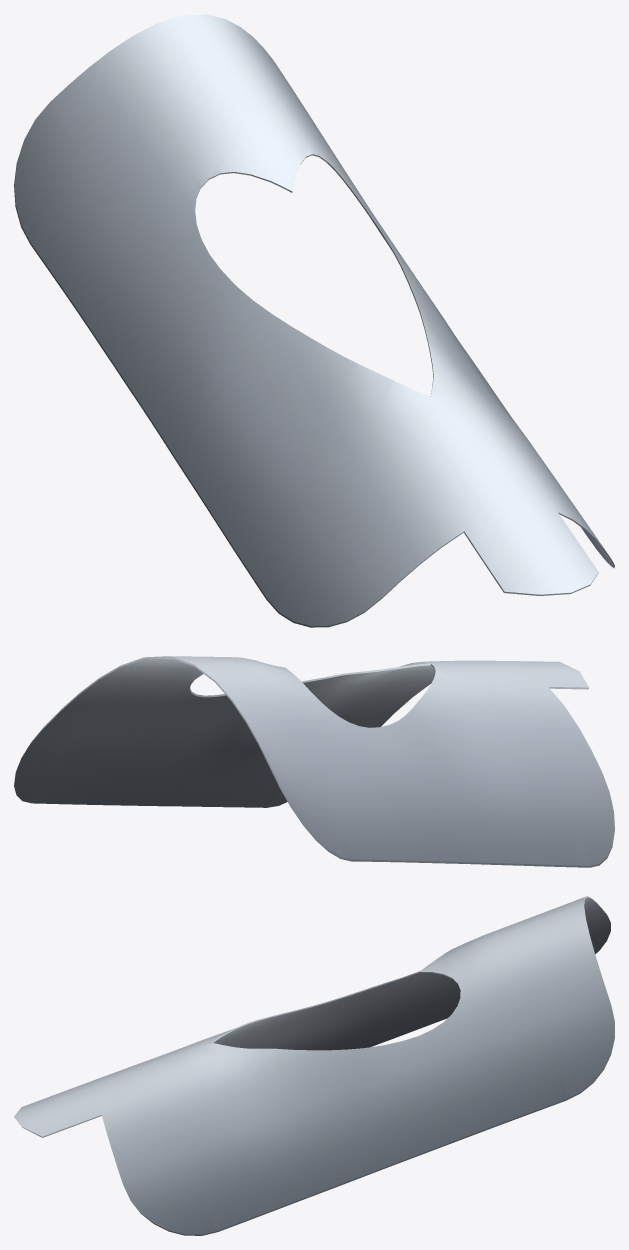
The model's file is Heart Stencil.fbx.
3 renders of one model, top to bottom at view 1: azimuth 30°, elevation 25°; view 2: azimuth 150°, elevation 25°; view 3: azimuth 270°, elevation 25°, orthographic. The views are drawn at different scales.
Visible parts, largest first — view 1: heart stencil; view 2: heart stencil; view 3: heart stencil.
Part boxes in pixels (x1=…): heart stencil: x1=14, y1=14, x2=614, y2=627; heart stencil: x1=14, y1=656, x2=614, y2=867; heart stencil: x1=14, y1=896, x2=614, y2=1235.
Bounding box in the file's own units: 97.61 × 110 × 216.
Materials: 1 (1 with a texture image).
